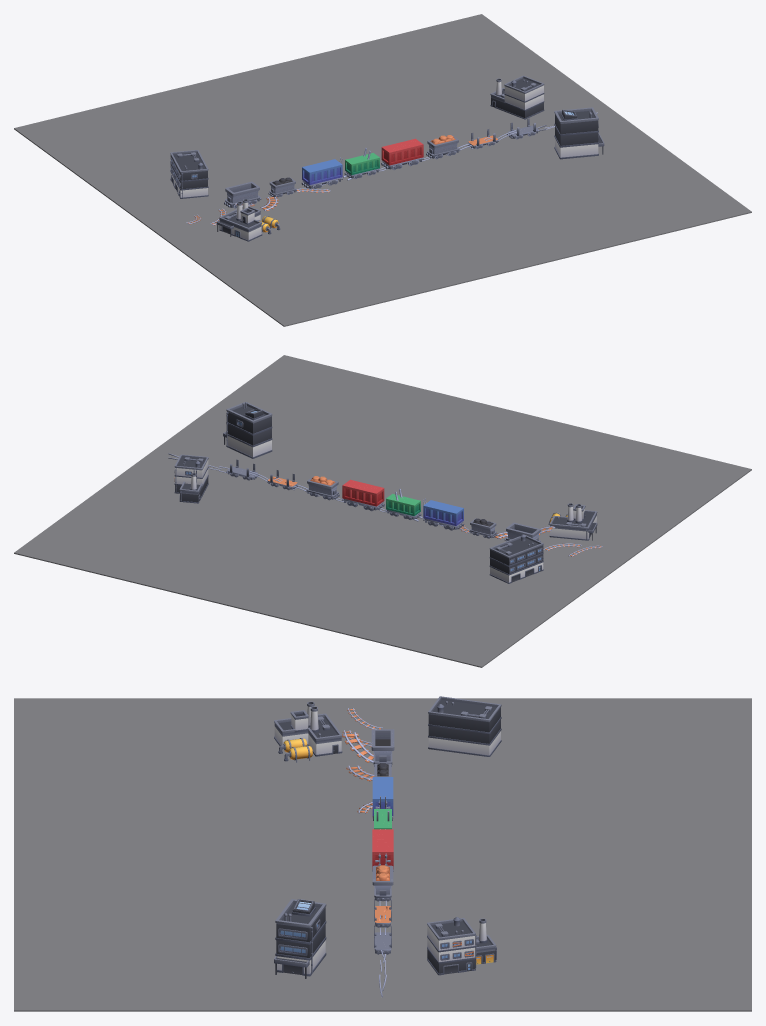
The model's file is world.glb.
3 renders of one model, top to bottom at view 1: azimuth 30°, elevation 25°; view 2: azimuth 150°, elevation 25°; view 3: azimuth 270°, elevation 25°, orthographic. The views are drawn at different scales.
Parts seen in each view (by area): view 1: Terrain, Station_003_building-d, Station_001_building-b, Station_000_building-a, Station_002_building-c, Car_004_train-carriage-conta, Car_002_train-carriage-conta, Car_003_train-carriage-conta, Car_000_train-carriage-box, Car_005_train-carriage-dirt; view 2: Terrain, Station_003_building-d, Station_000_building-a, Station_001_building-b, Station_002_building-c, Car_004_train-carriage-conta, Car_002_train-carriage-conta, Car_003_train-carriage-conta, Car_005_train-carriage-dirt; view 3: Terrain, Station_000_building-a, Station_003_building-d, Station_001_building-b, Station_002_building-c, Car_004_train-carriage-conta, Car_000_train-carriage-box, Car_005_train-carriage-dirt, Car_002_train-carriage-conta.
Part boxes in pixels (left/top/right/bottom): Terrain: left=14, top=14, right=751, bottom=326; Station_003_building-d: left=554, top=107, right=604, bottom=159; Station_001_building-b: left=490, top=75, right=544, bottom=119; Station_000_building-a: left=170, top=150, right=208, bottom=198; Station_002_building-c: left=216, top=199, right=280, bottom=241; Car_004_train-carriage-conta: left=381, top=138, right=423, bottom=170; Car_002_train-carriage-conta: left=301, top=159, right=342, bottom=189; Car_003_train-carriage-conta: left=344, top=153, right=380, bottom=178; Car_000_train-carriage-box: left=224, top=181, right=261, bottom=208; Car_005_train-carriage-dirt: left=426, top=135, right=460, bottom=159; Terrain: left=14, top=355, right=751, bottom=667; Station_003_building-d: left=223, top=402, right=272, bottom=458; Station_000_building-a: left=489, top=534, right=543, bottom=583; Station_001_building-b: left=174, top=454, right=208, bottom=503; Station_002_building-c: left=548, top=503, right=597, bottom=540; Car_004_train-carriage-conta: left=342, top=479, right=384, bottom=511; Car_002_train-carriage-conta: left=423, top=500, right=464, bottom=530; Car_003_train-carriage-conta: left=385, top=494, right=421, bottom=519; Car_005_train-carriage-dirt: left=305, top=476, right=339, bottom=500; Terrain: left=14, top=698, right=751, bottom=1011; Station_000_building-a: left=428, top=696, right=501, bottom=756; Station_003_building-d: left=274, top=899, right=326, bottom=978; Station_001_building-b: left=427, top=917, right=496, bottom=975; Station_002_building-c: left=274, top=701, right=342, bottom=762; Car_004_train-carriage-conta: left=372, top=829, right=393, bottom=871; Car_000_train-carriage-box: left=371, top=729, right=394, bottom=766; Car_005_train-carriage-dirt: left=372, top=865, right=393, bottom=901; Car_002_train-carriage-conta: left=372, top=777, right=393, bottom=820.
Bounding box in the file's own units: 200 × 17.29 × 200.
Materials: 30 (28 with a texture image).
